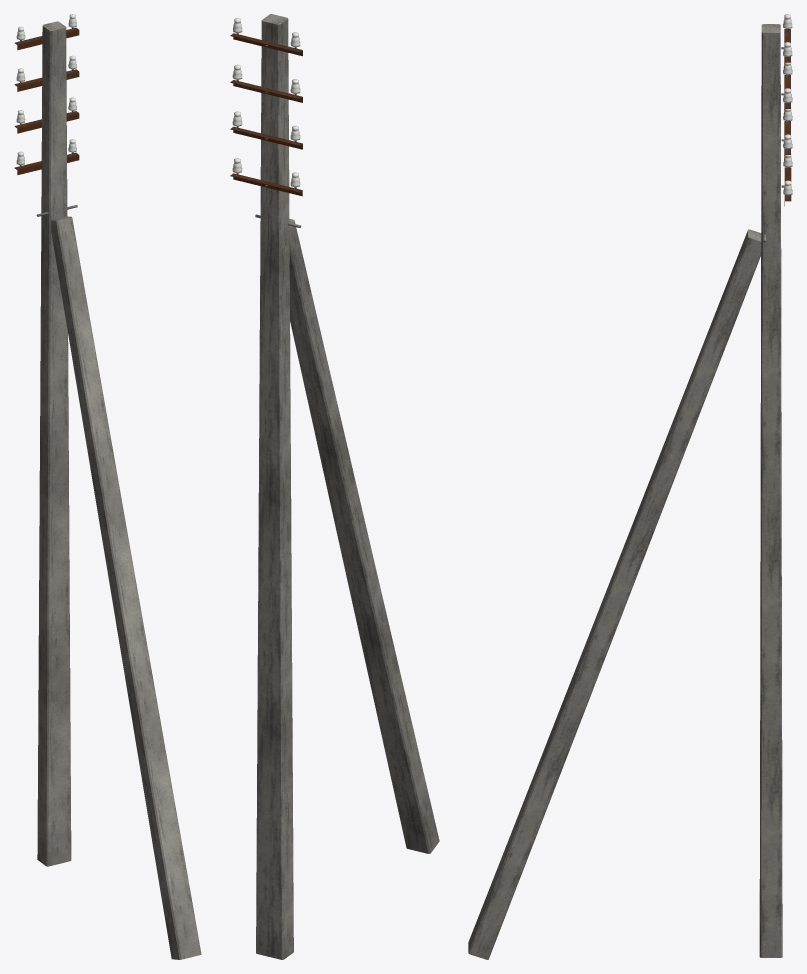
File: pole_sv95_anchor_lod2_web.glb
3 views of the same model, side by side, from view 1: azimuth 30°, elevation 25°; view 2: azimuth 150°, elevation 25°; view 3: azimuth 270°, elevation 25° (orthographic). The views are drawn at different scales.
Parts seen in each view (by area): view 1: PoleSV95_Anchor_Mesh; view 2: PoleSV95_Anchor_Mesh; view 3: PoleSV95_Anchor_Mesh.
Part boxes in pixels (bbox=[...]): PoleSV95_Anchor_Mesh: bbox=[14, 14, 201, 959]; PoleSV95_Anchor_Mesh: bbox=[230, 14, 439, 959]; PoleSV95_Anchor_Mesh: bbox=[468, 14, 792, 959].
Size of the model in its own units: 0.6199 by 8.03 by 2.55.
4 materials, 3 textured.
